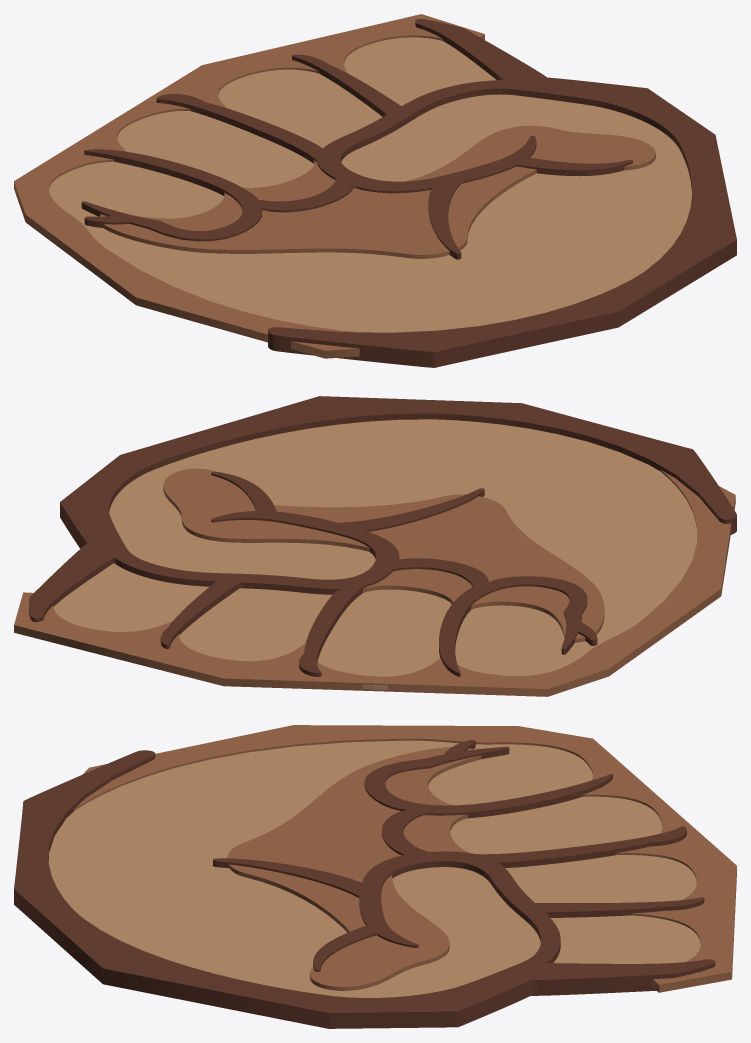
File: emoji_u270a_1f3fd.glb
The picture shows the model from 3 angles, top to bottom: view 1: azimuth 30°, elevation 25°; view 2: azimuth 150°, elevation 25°; view 3: azimuth 270°, elevation 25°; orthographic projection. The views are drawn at different scales.
Visible parts, largest first — view 1: emoji_u270a_1f3fd; view 2: emoji_u270a_1f3fd; view 3: emoji_u270a_1f3fd.
Boxes of the visible parts, <box> form: emoji_u270a_1f3fd: <box>14,14,736,367</box>; emoji_u270a_1f3fd: <box>14,396,736,696</box>; emoji_u270a_1f3fd: <box>14,725,736,1028</box>.
Bounding box in the file's own units: 0.0317 × 0.0008 × 0.0332.
